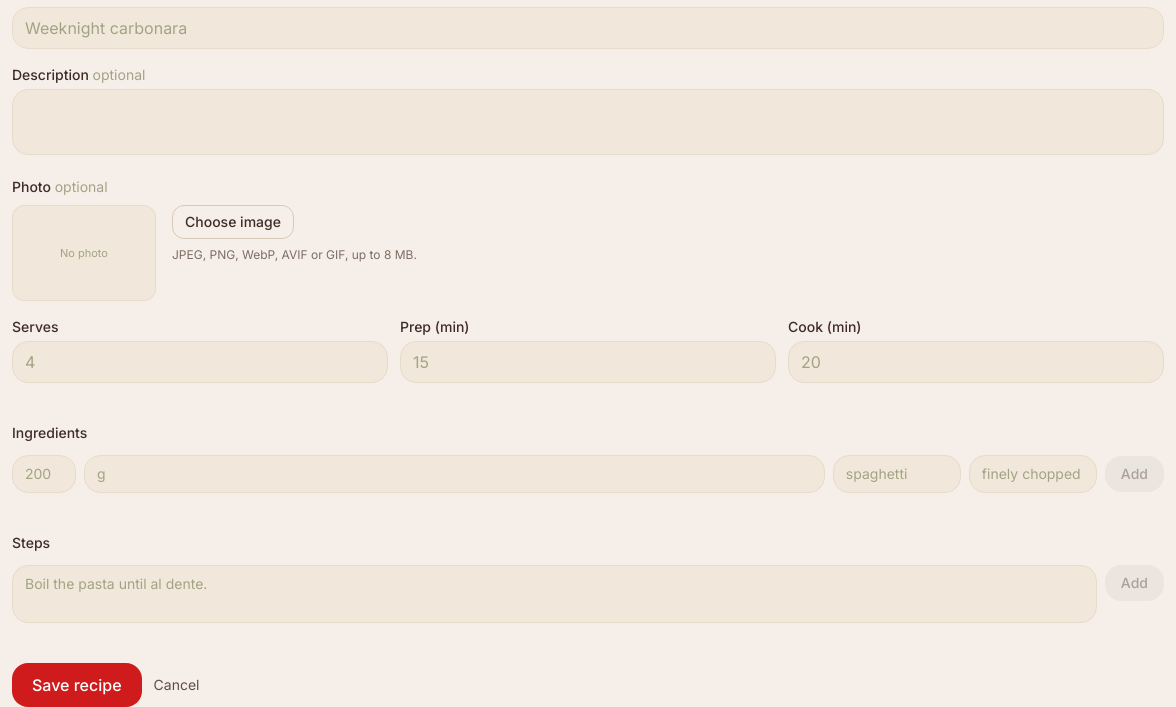
Test: RecipeForm — submission › shows a server error in an alert and marks the title invalid
Click the button "Save recipe" at {"x": 77, "y": 685}, box [12,663,142,706]
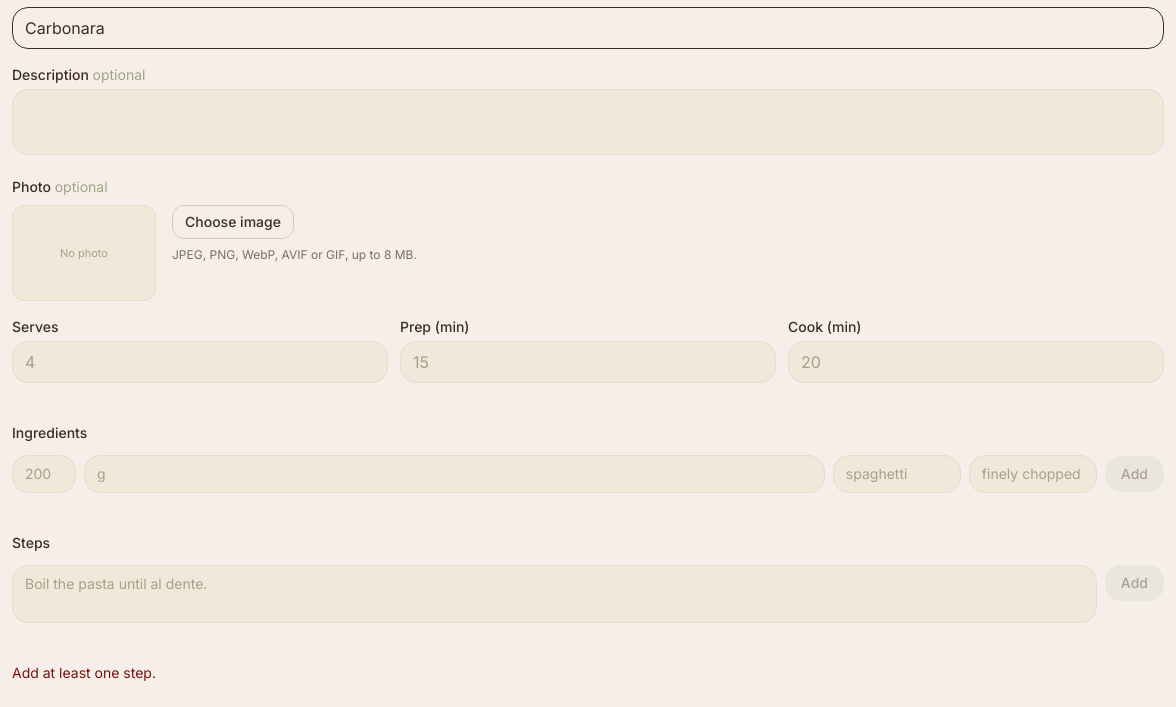
Result: the message reads "Add at least one step." at [12,664,156,681]
